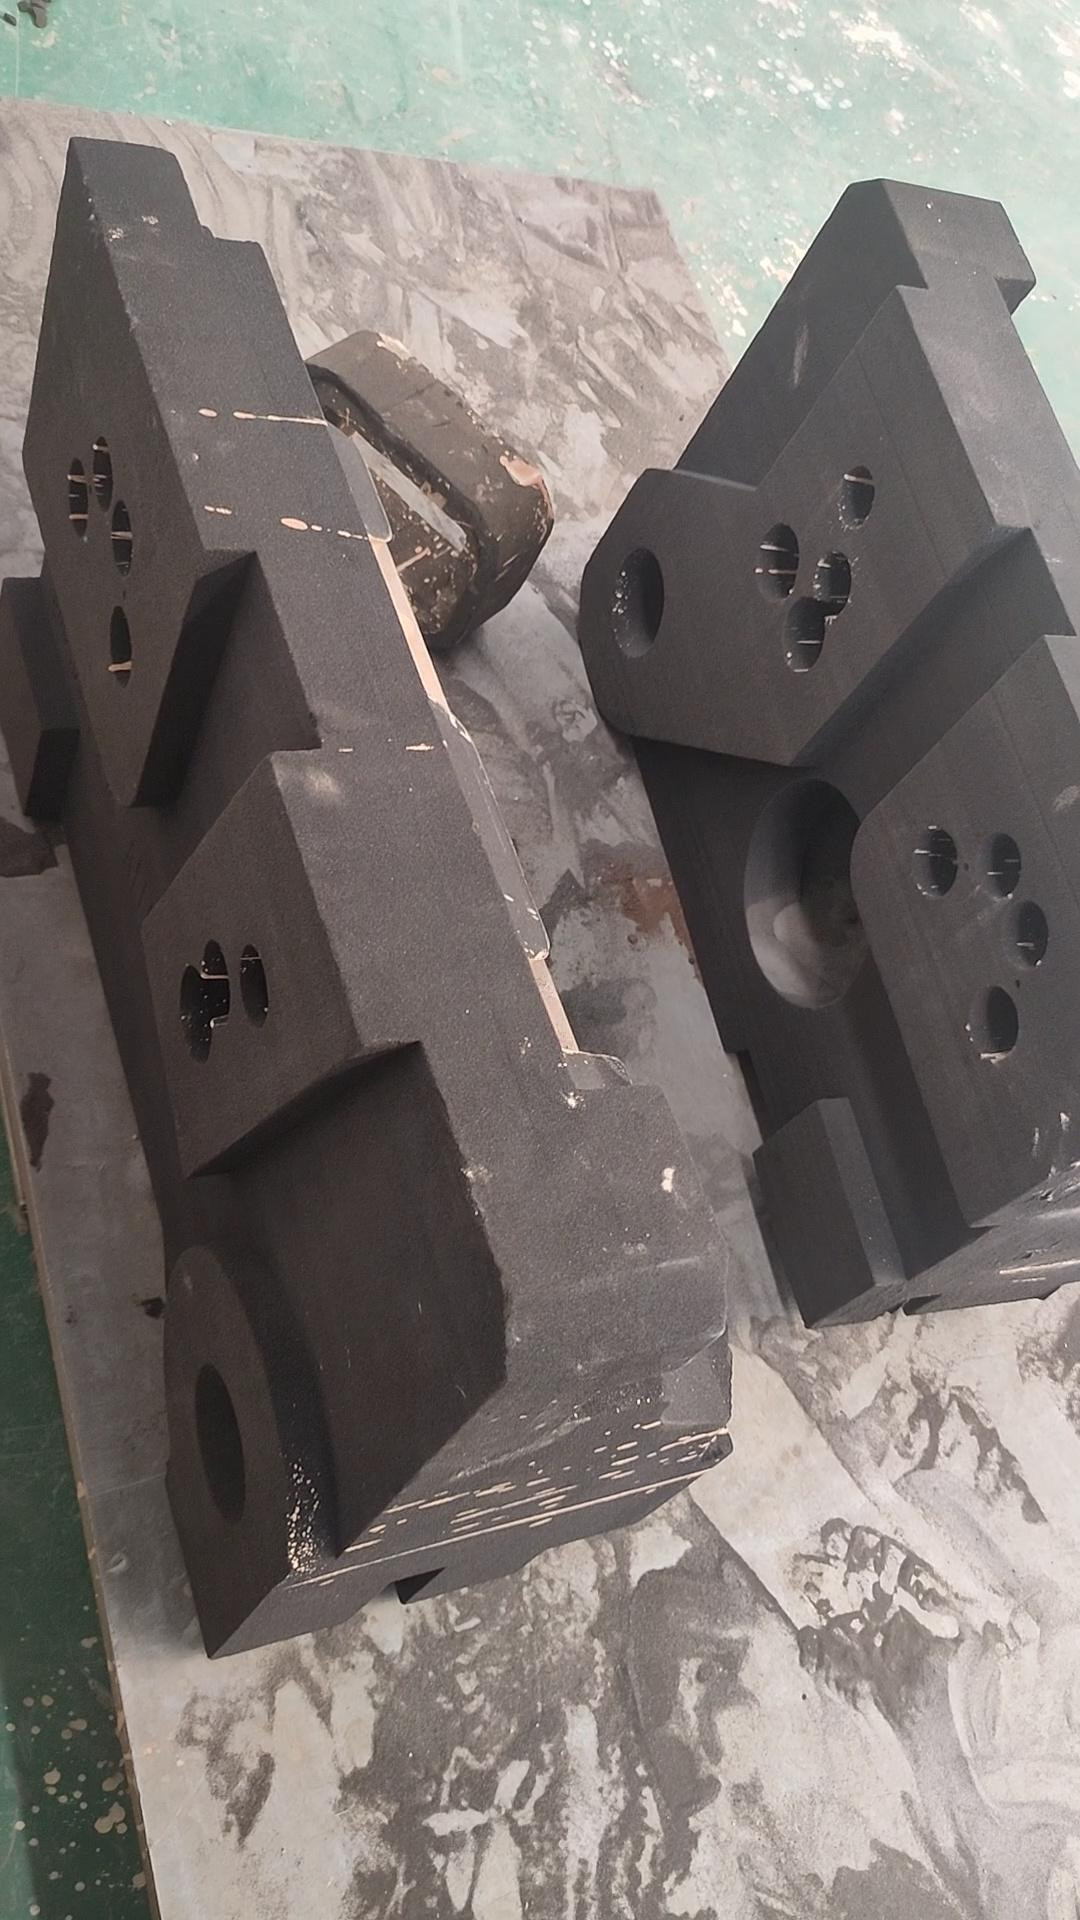pouring hole: (190, 1361, 249, 1531), (607, 547, 665, 658)
